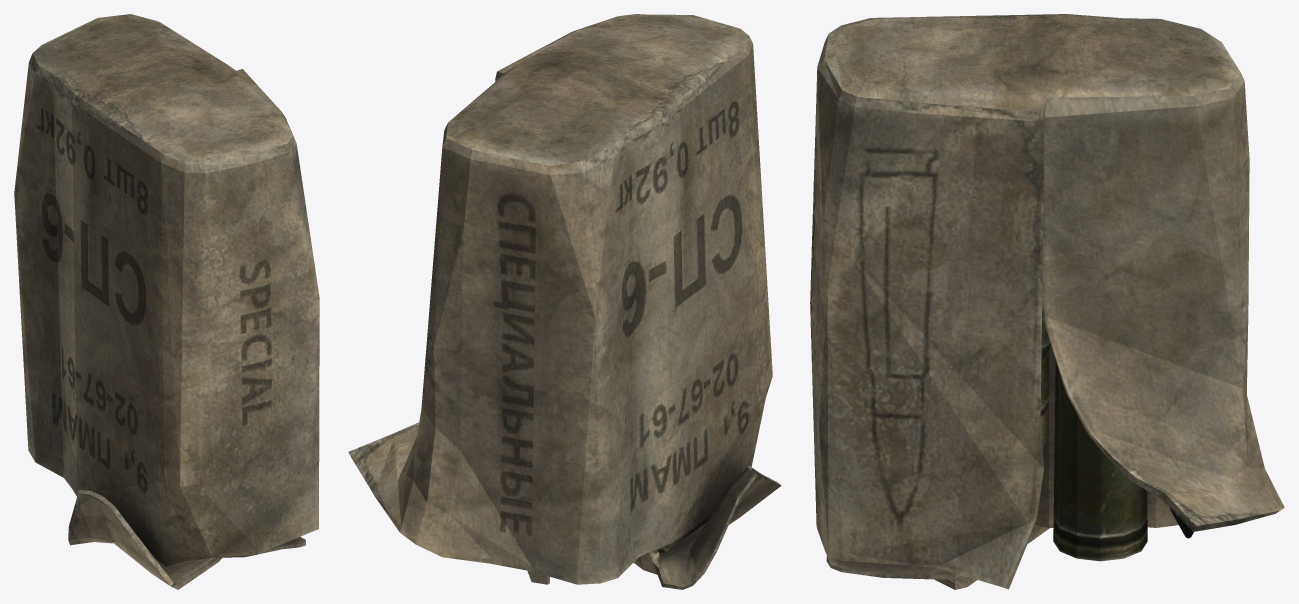
3 renders of one model, left to right at view 1: azimuth 30°, elevation 25°; view 2: azimuth 150°, elevation 25°; view 3: azimuth 270°, elevation 25°, orthographic. The views are drawn at different scales.
Visible parts, largest first — view 1: TW_5c1260dc86f7746b106e8748_PZ_Import; view 2: TW_5c1260dc86f7746b106e8748_PZ_Import; view 3: TW_5c1260dc86f7746b106e8748_PZ_Import.
Part boxes in pixels (x1,y1,x2,y2): TW_5c1260dc86f7746b106e8748_PZ_Import: (14,14,319,589); TW_5c1260dc86f7746b106e8748_PZ_Import: (348,14,781,589); TW_5c1260dc86f7746b106e8748_PZ_Import: (810,14,1284,589).
Bounding box in the file's own units: 0.0426 × 0.0548 × 0.0677.
Materials: 1 (1 with a texture image).
